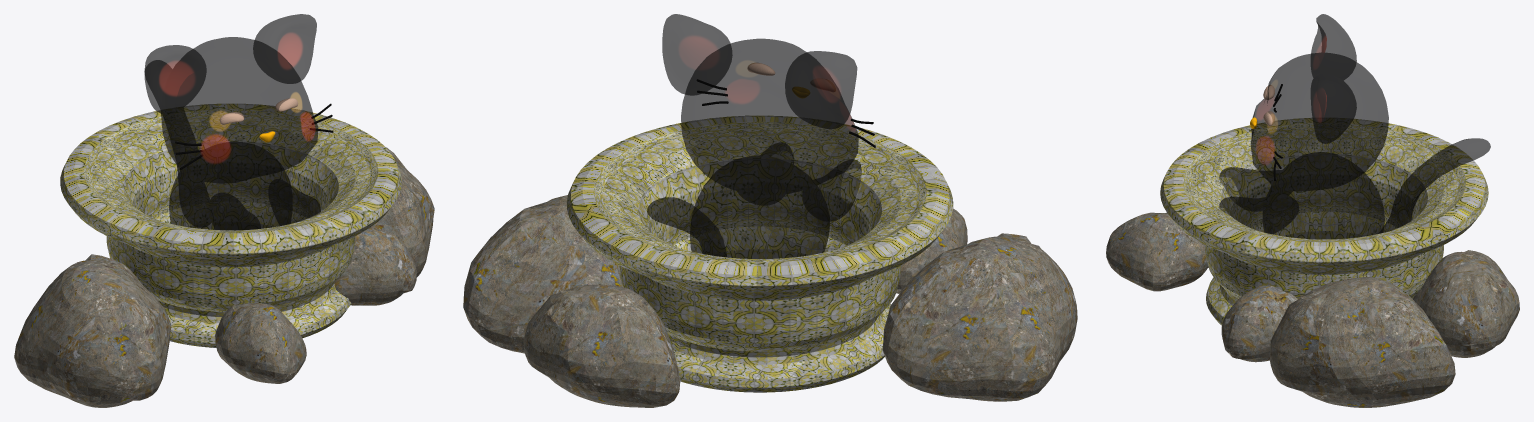
The model's file is gatito de porcelana2.glb.
3 views of the same model, side by side, from view 1: azimuth 30°, elevation 25°; view 2: azimuth 150°, elevation 25°; view 3: azimuth 270°, elevation 25° (orthographic). The views are drawn at different scales.
Parts seen in each view (by area): view 1: Circle, piedras, Sphere, Sphere.001, Sphere.004, Sphere.003, Sphere.002, Sphere.005, Cylinder; view 2: Circle, piedras, Sphere, Sphere.001, Sphere.004, Sphere.002, Sphere.003; view 3: Circle, piedras, Sphere, Sphere.001, Sphere.004, Sphere.002, Sphere.003.
Part boxes in pixels (x1,y1,x2,y2): Circle: (60,104,401,347); piedras: (14,147,434,407); Sphere: (161,37,318,183); Sphere.001: (169,142,292,229); Sphere.004: (144,14,316,114); Sphere.003: (144,60,211,227); Sphere.002: (209,179,320,230); Sphere.005: (220,98,298,124); Cylinder: (175,103,333,169); Circle: (566,116,953,392); piedras: (463,195,1077,407); Sphere: (681,38,858,195); Sphere.001: (689,156,829,258); Sphere.004: (662,14,857,129); Sphere.002: (737,142,861,221); Sphere.003: (647,197,726,257); Circle: (1160,118,1488,325); piedras: (1106,212,1519,407); Sphere: (1250,52,1388,191); Sphere.001: (1262,152,1384,239); Sphere.004: (1311,14,1356,143); Sphere.002: (1219,167,1298,234); Sphere.003: (1378,138,1490,233).
Bounding box in the file's own units: 8.18 × 5.17 × 6.83.
10 materials, 4 textured.
